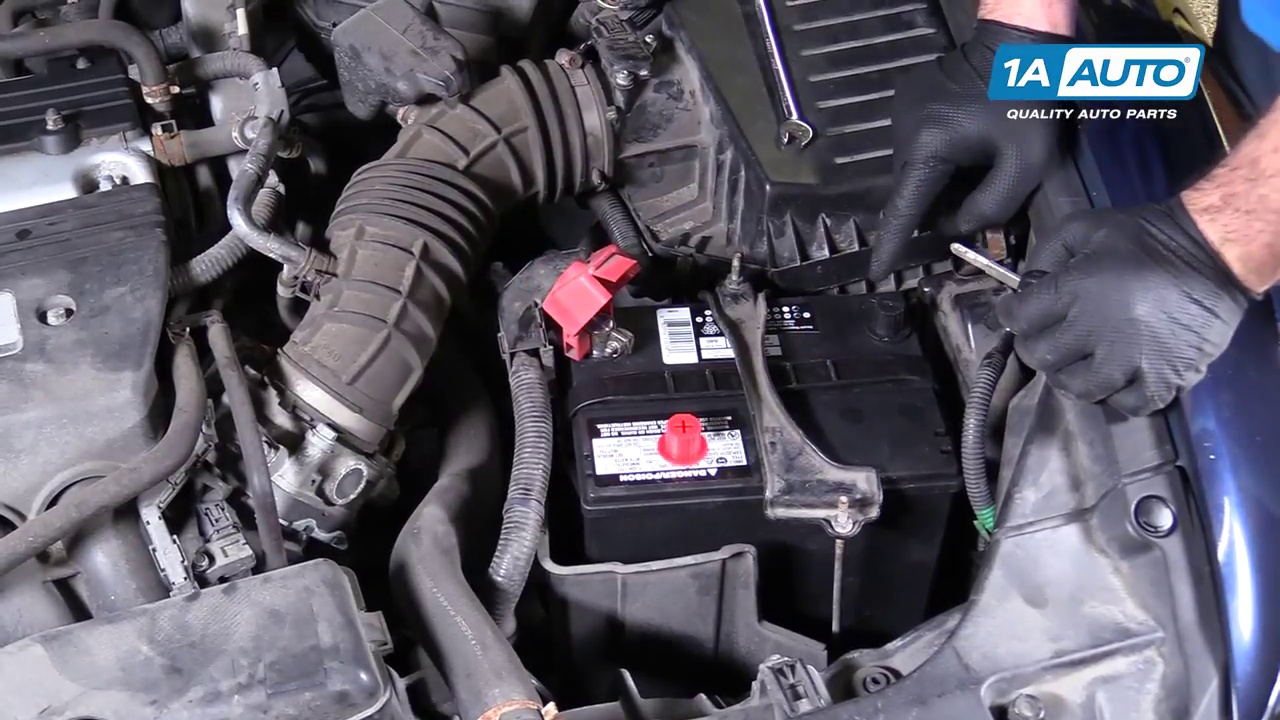battery: (551, 286, 961, 492)
pos_connected: (508, 255, 663, 366)
